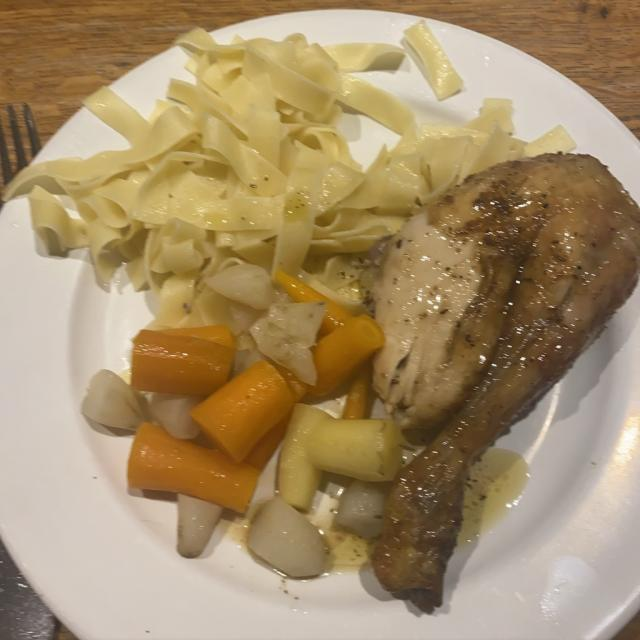chicken-leg: (369, 151, 631, 599)
mixed-vegetables: (102, 290, 393, 574)
pasta-linguini-parpadelle-tagliatelle: (28, 39, 515, 327)
